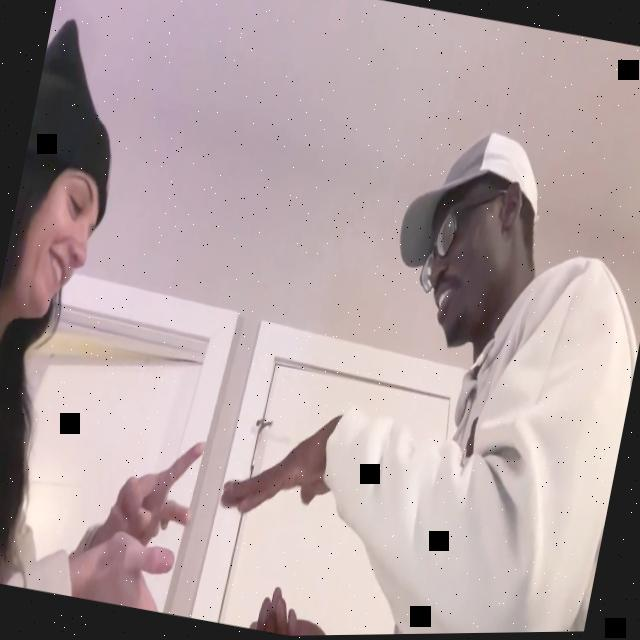Paper: (214, 393, 348, 552), (103, 426, 206, 562)
